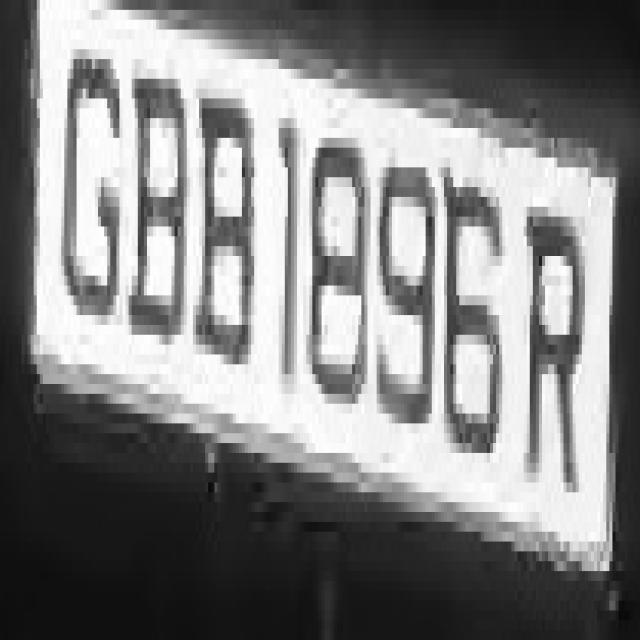1: (276, 89, 303, 443)
6: (432, 128, 505, 463)
8: (306, 109, 371, 424)
9: (373, 118, 438, 473)
B: (125, 39, 193, 394), (193, 49, 260, 394)
G: (58, 29, 126, 354)
R: (517, 168, 588, 542)
